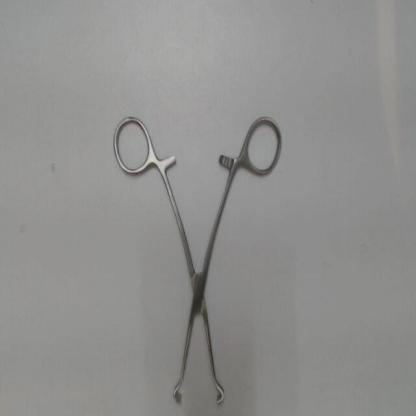Babcock Tissue Forceps: (108, 114, 288, 414)
